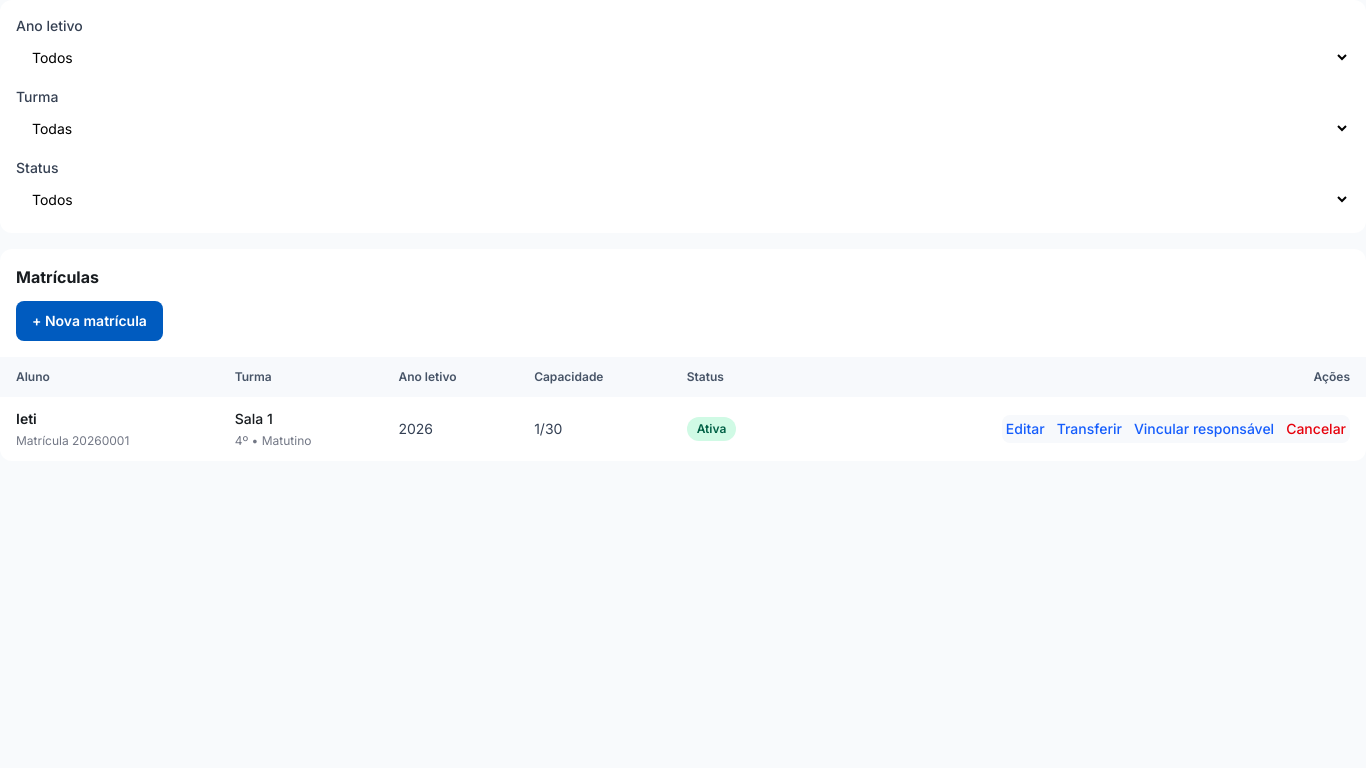
Scenario: EnrollmentsTab - vínculo de responsável após matrícula › abre o editor completo do aluno a partir da matrícula ativa
Click the button "Editar" at [1025, 429], box [1006, 419, 1045, 439]
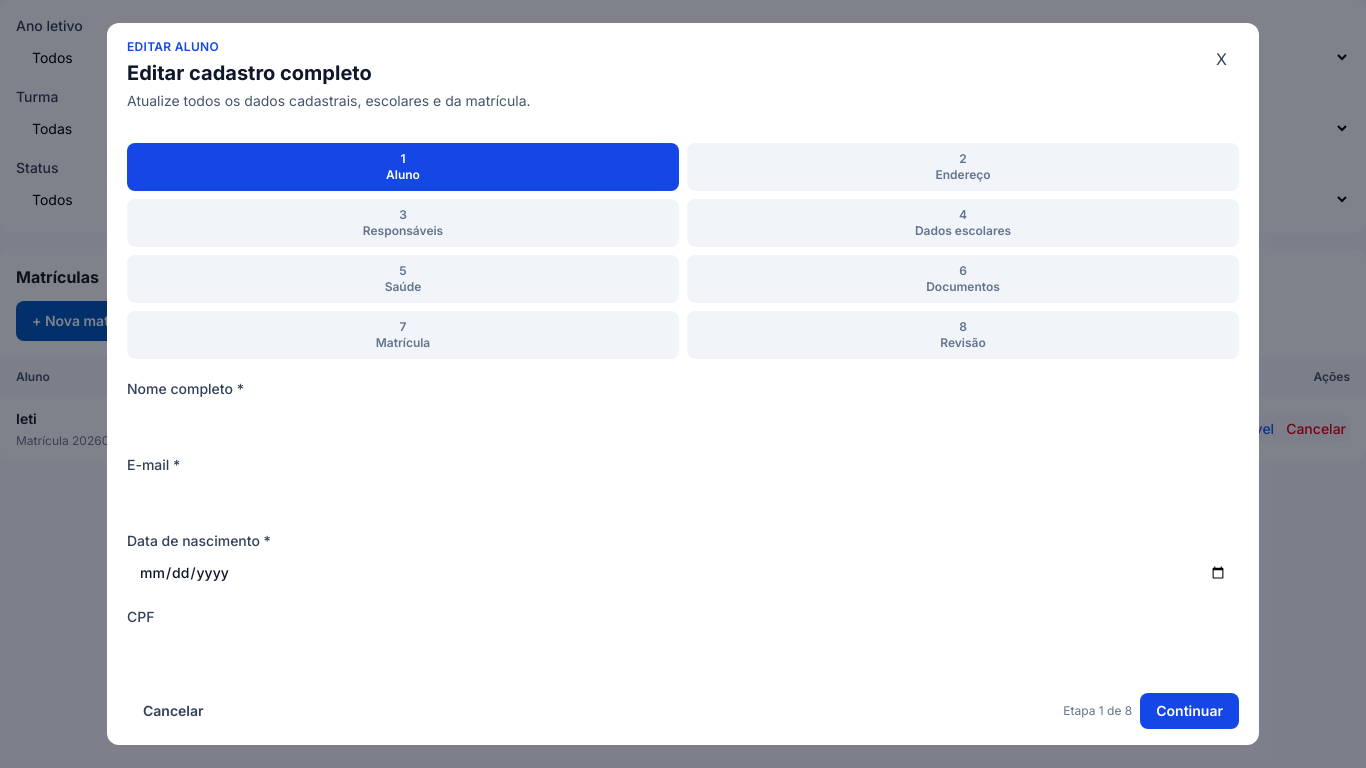
Now the heading "Editar cadastro completo" is shown, box [127, 61, 372, 85]
